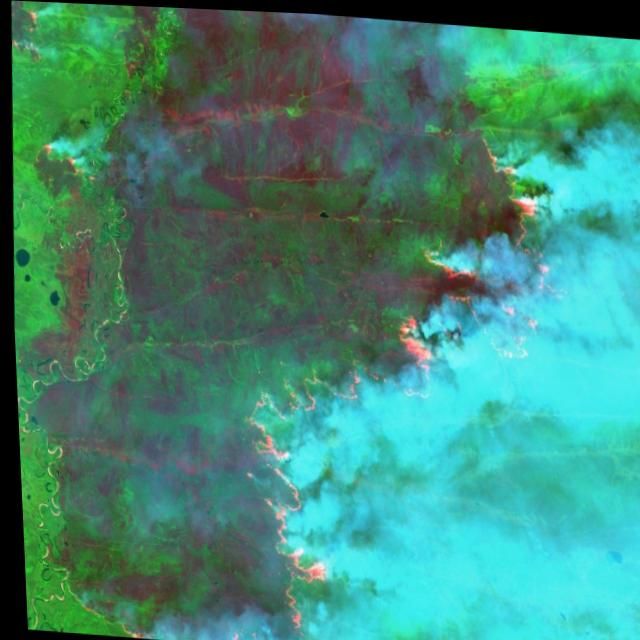fire: (375, 117, 570, 423), (226, 339, 375, 640), (8, 0, 81, 72), (29, 126, 99, 193)
